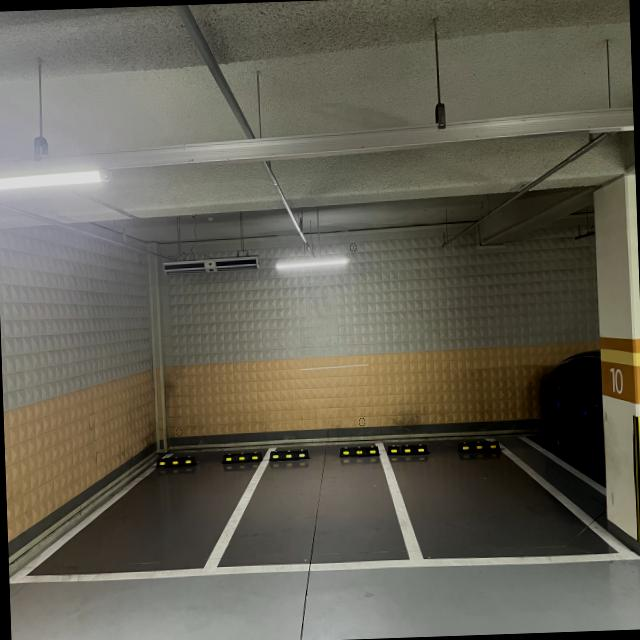free: (9, 443, 280, 583), (379, 430, 640, 570), (190, 435, 432, 580)
